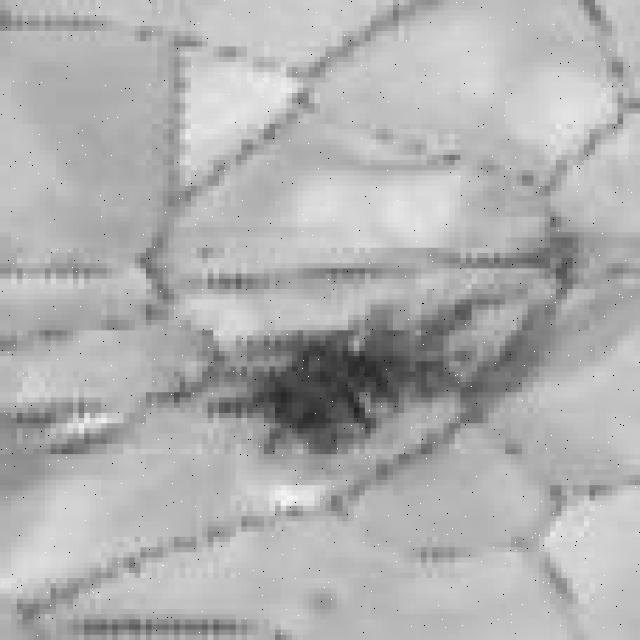good_void: (210, 295, 493, 461)
